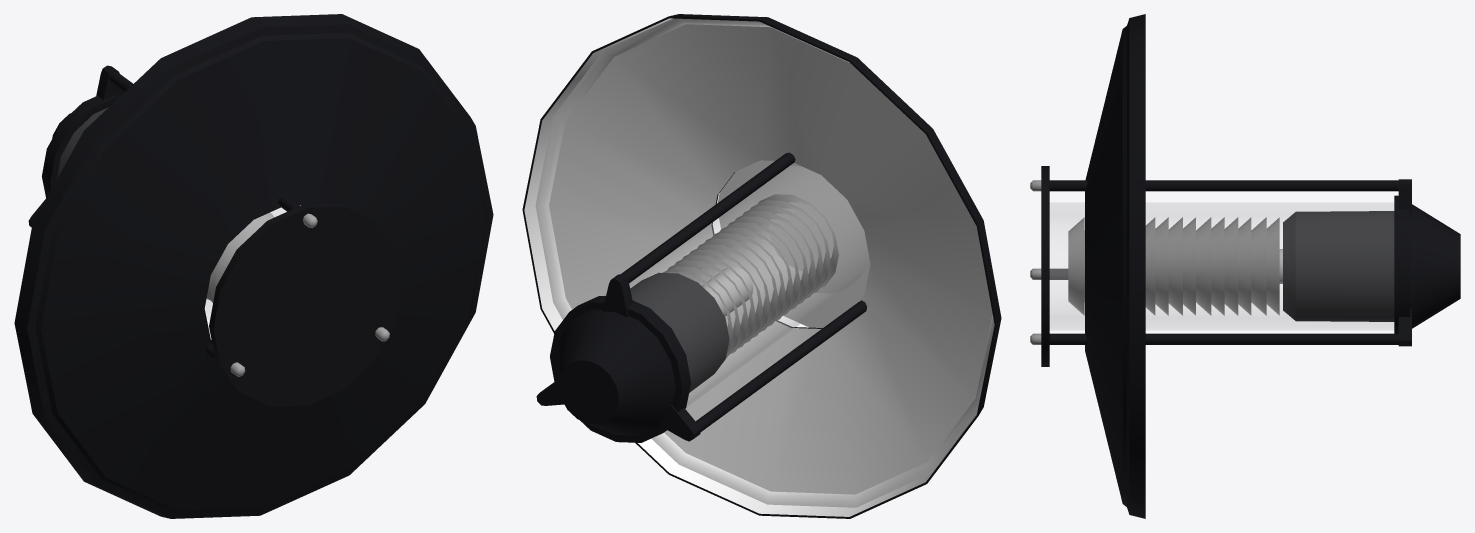
3 views of the same model, side by side, from view 1: azimuth 30°, elevation 25°; view 2: azimuth 150°, elevation 25°; view 3: azimuth 270°, elevation 25° (orthographic). The views are drawn at different scales.
Parts seen in each view (by area): view 1: BezierCurve.001, Glas, Cylinder.002, Cylinder.001; view 2: BezierCurve.001, Glas, Cylinder.002, Cylinder.001; view 3: BezierCurve.001, Glas, Cylinder.002, Cylinder.001.
Boxes of the visible parts, bbox=[...] form: BezierCurve.001: bbox=[14, 14, 493, 518]; Glas: bbox=[57, 108, 286, 320]; Cylinder.002: bbox=[109, 72, 389, 376]; Cylinder.001: bbox=[28, 65, 124, 227]; BezierCurve.001: bbox=[522, 14, 1001, 518]; Glas: bbox=[604, 166, 868, 406]; Cylinder.002: bbox=[621, 152, 866, 431]; Cylinder.001: bbox=[536, 274, 700, 441]; BezierCurve.001: bbox=[1041, 14, 1460, 518]; Glas: bbox=[1050, 202, 1393, 330]; Cylinder.002: bbox=[1030, 180, 1398, 344]; Cylinder.001: bbox=[1398, 179, 1411, 346].
Bounding box in the file's own units: 0.6768 × 0.6768 × 0.5764.
Materials: 4 (3 with a texture image).
